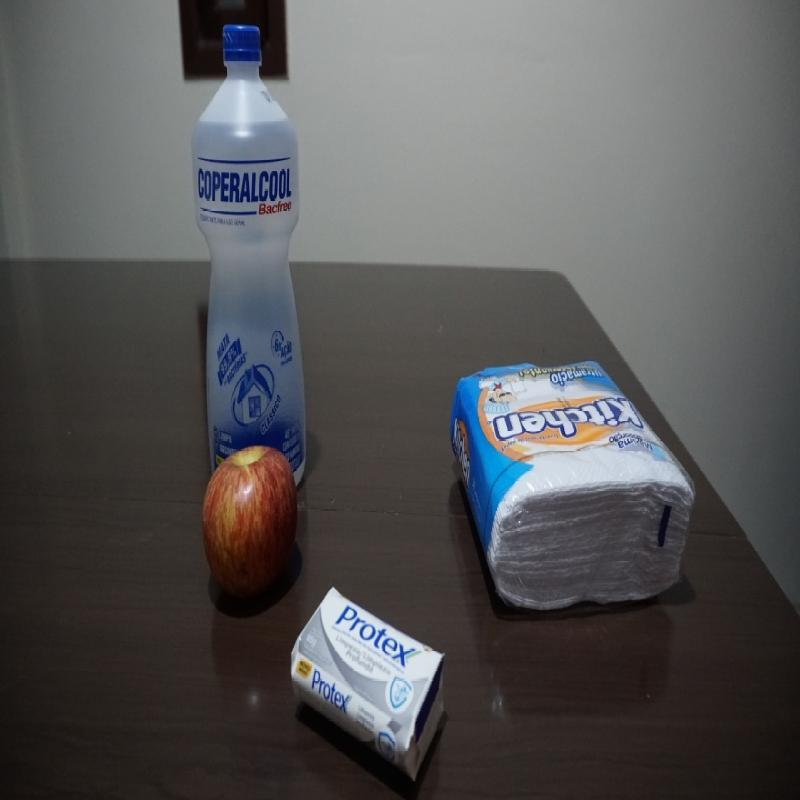Alcohol Bottle: (194, 26, 318, 478)
Apple: (194, 454, 301, 585)
Napkin: (453, 351, 692, 609)
Soap: (289, 588, 454, 762)
